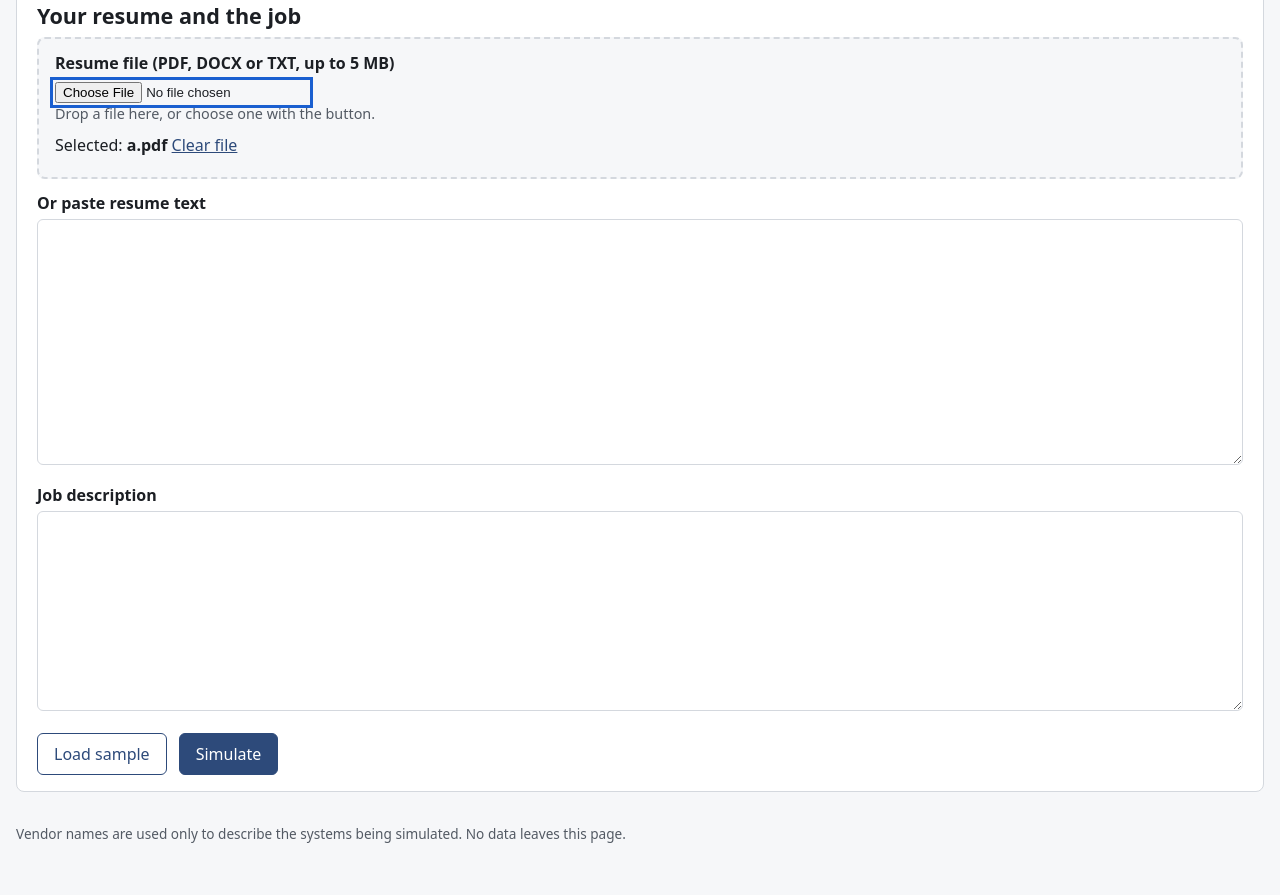
Test case: rejected files (criterion 4) › clears a stale error when a new file is chosen or the text is edited
Earlier steps of the test are not shown.
Later steps or results of the test are not shown.
(page scrolled)
Click the button "Simulate" at (228, 754), box top-left (179, 733), bottom-right (278, 775)
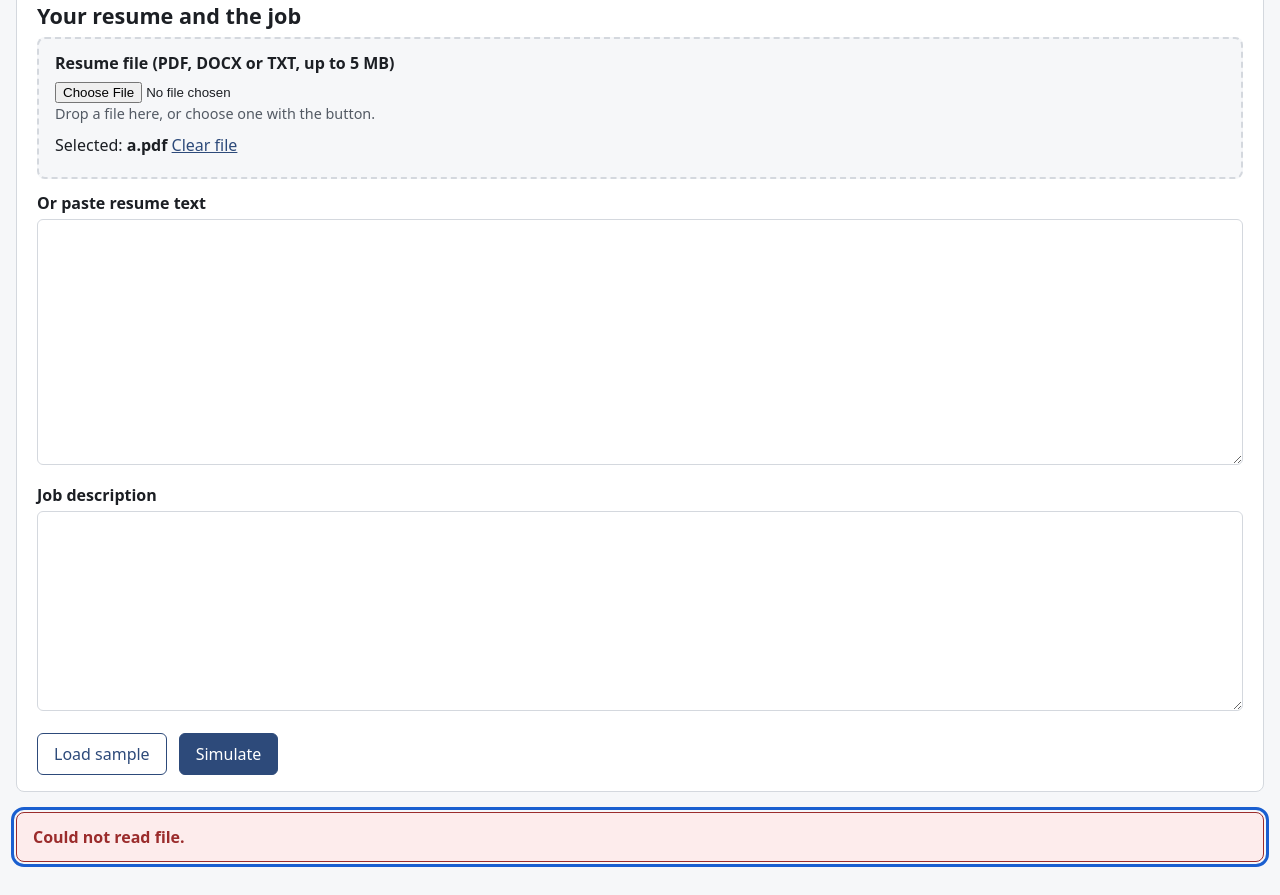
expect the text "Could not read file." is shown: met, box top-left (16, 812), bottom-right (1264, 862)
